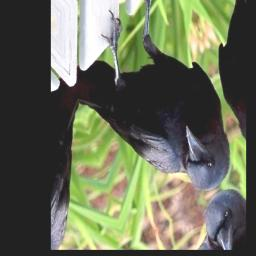Crow: (52, 0, 243, 245)
